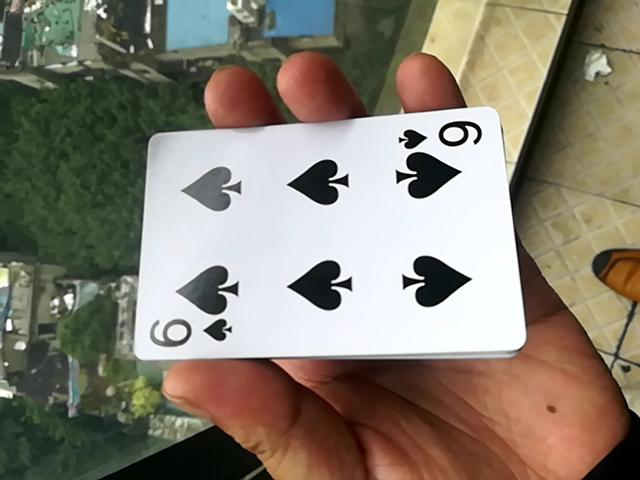ht 6: (117, 112, 527, 368)
